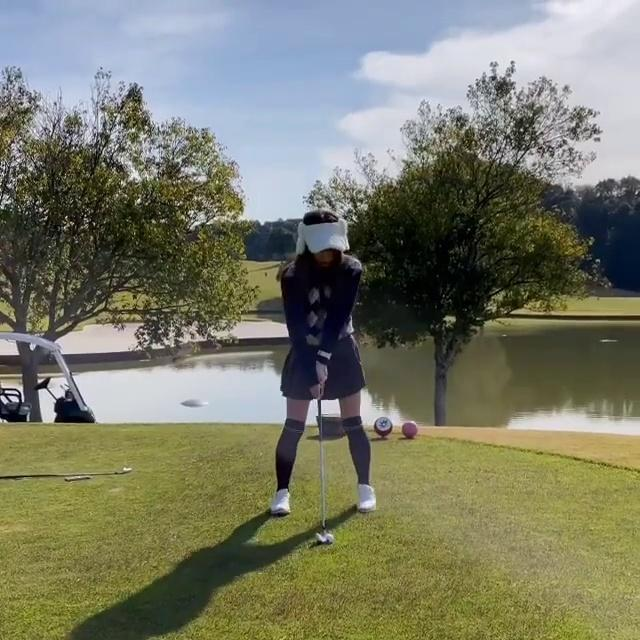golf ball: (326, 532, 335, 544)
golf club-handle: (313, 396, 330, 544)
golf club-head: (315, 531, 326, 543)
